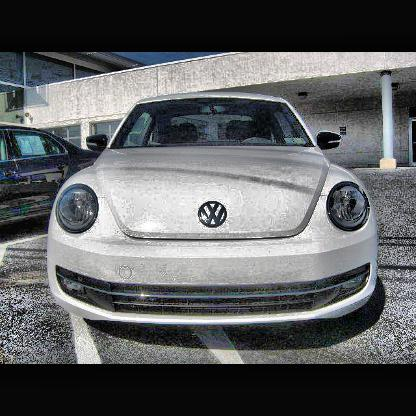Volkswagen Beetle Hatchback 2012: (49, 93, 380, 326)
